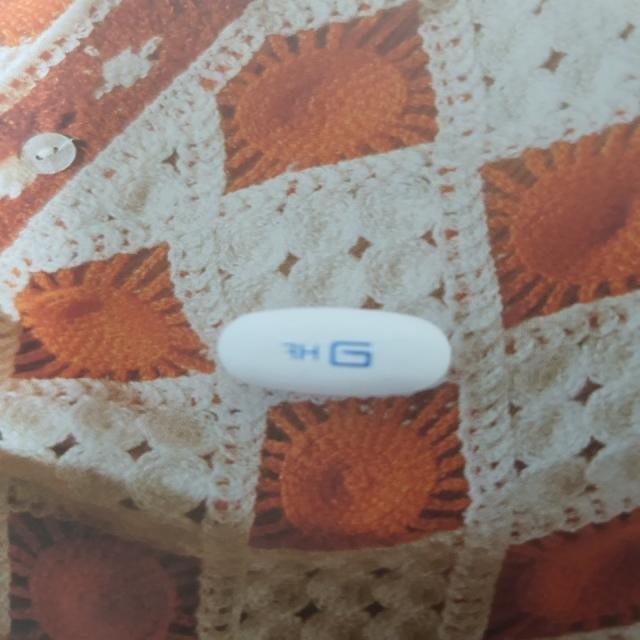pill: (188, 301, 480, 402)
